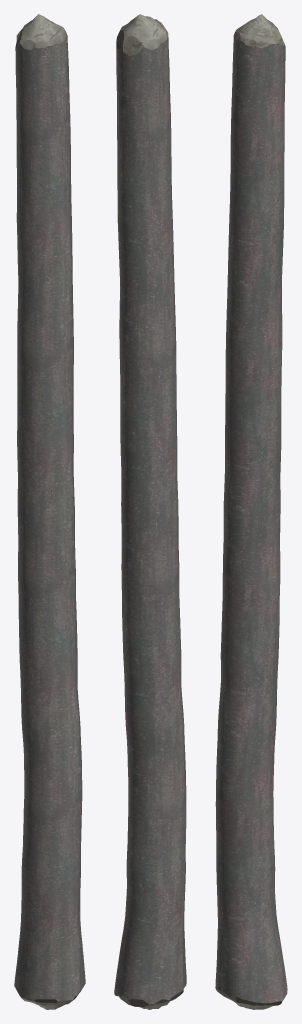
3 views of the same model, side by side, from view 1: azimuth 90°, elevation 25°; view 2: azimuth 150°, elevation 25°; view 3: azimuth 330°, elevation 25° (orthographic).
Parts seen in each view (by area): view 1: SM_GF_Ash_Tree_03_full_LOD0; view 2: SM_GF_Ash_Tree_03_full_LOD0; view 3: SM_GF_Ash_Tree_03_full_LOD0.
Part boxes in pixels (left/top/right/bottom): SM_GF_Ash_Tree_03_full_LOD0: left=14, top=14, right=85, bottom=1009; SM_GF_Ash_Tree_03_full_LOD0: left=114, top=14, right=186, bottom=1009; SM_GF_Ash_Tree_03_full_LOD0: left=215, top=14, right=287, bottom=1009.
Bounding box in the file's own units: 0.5919 × 8.86 × 0.5784.
1 material, 1 textured.
